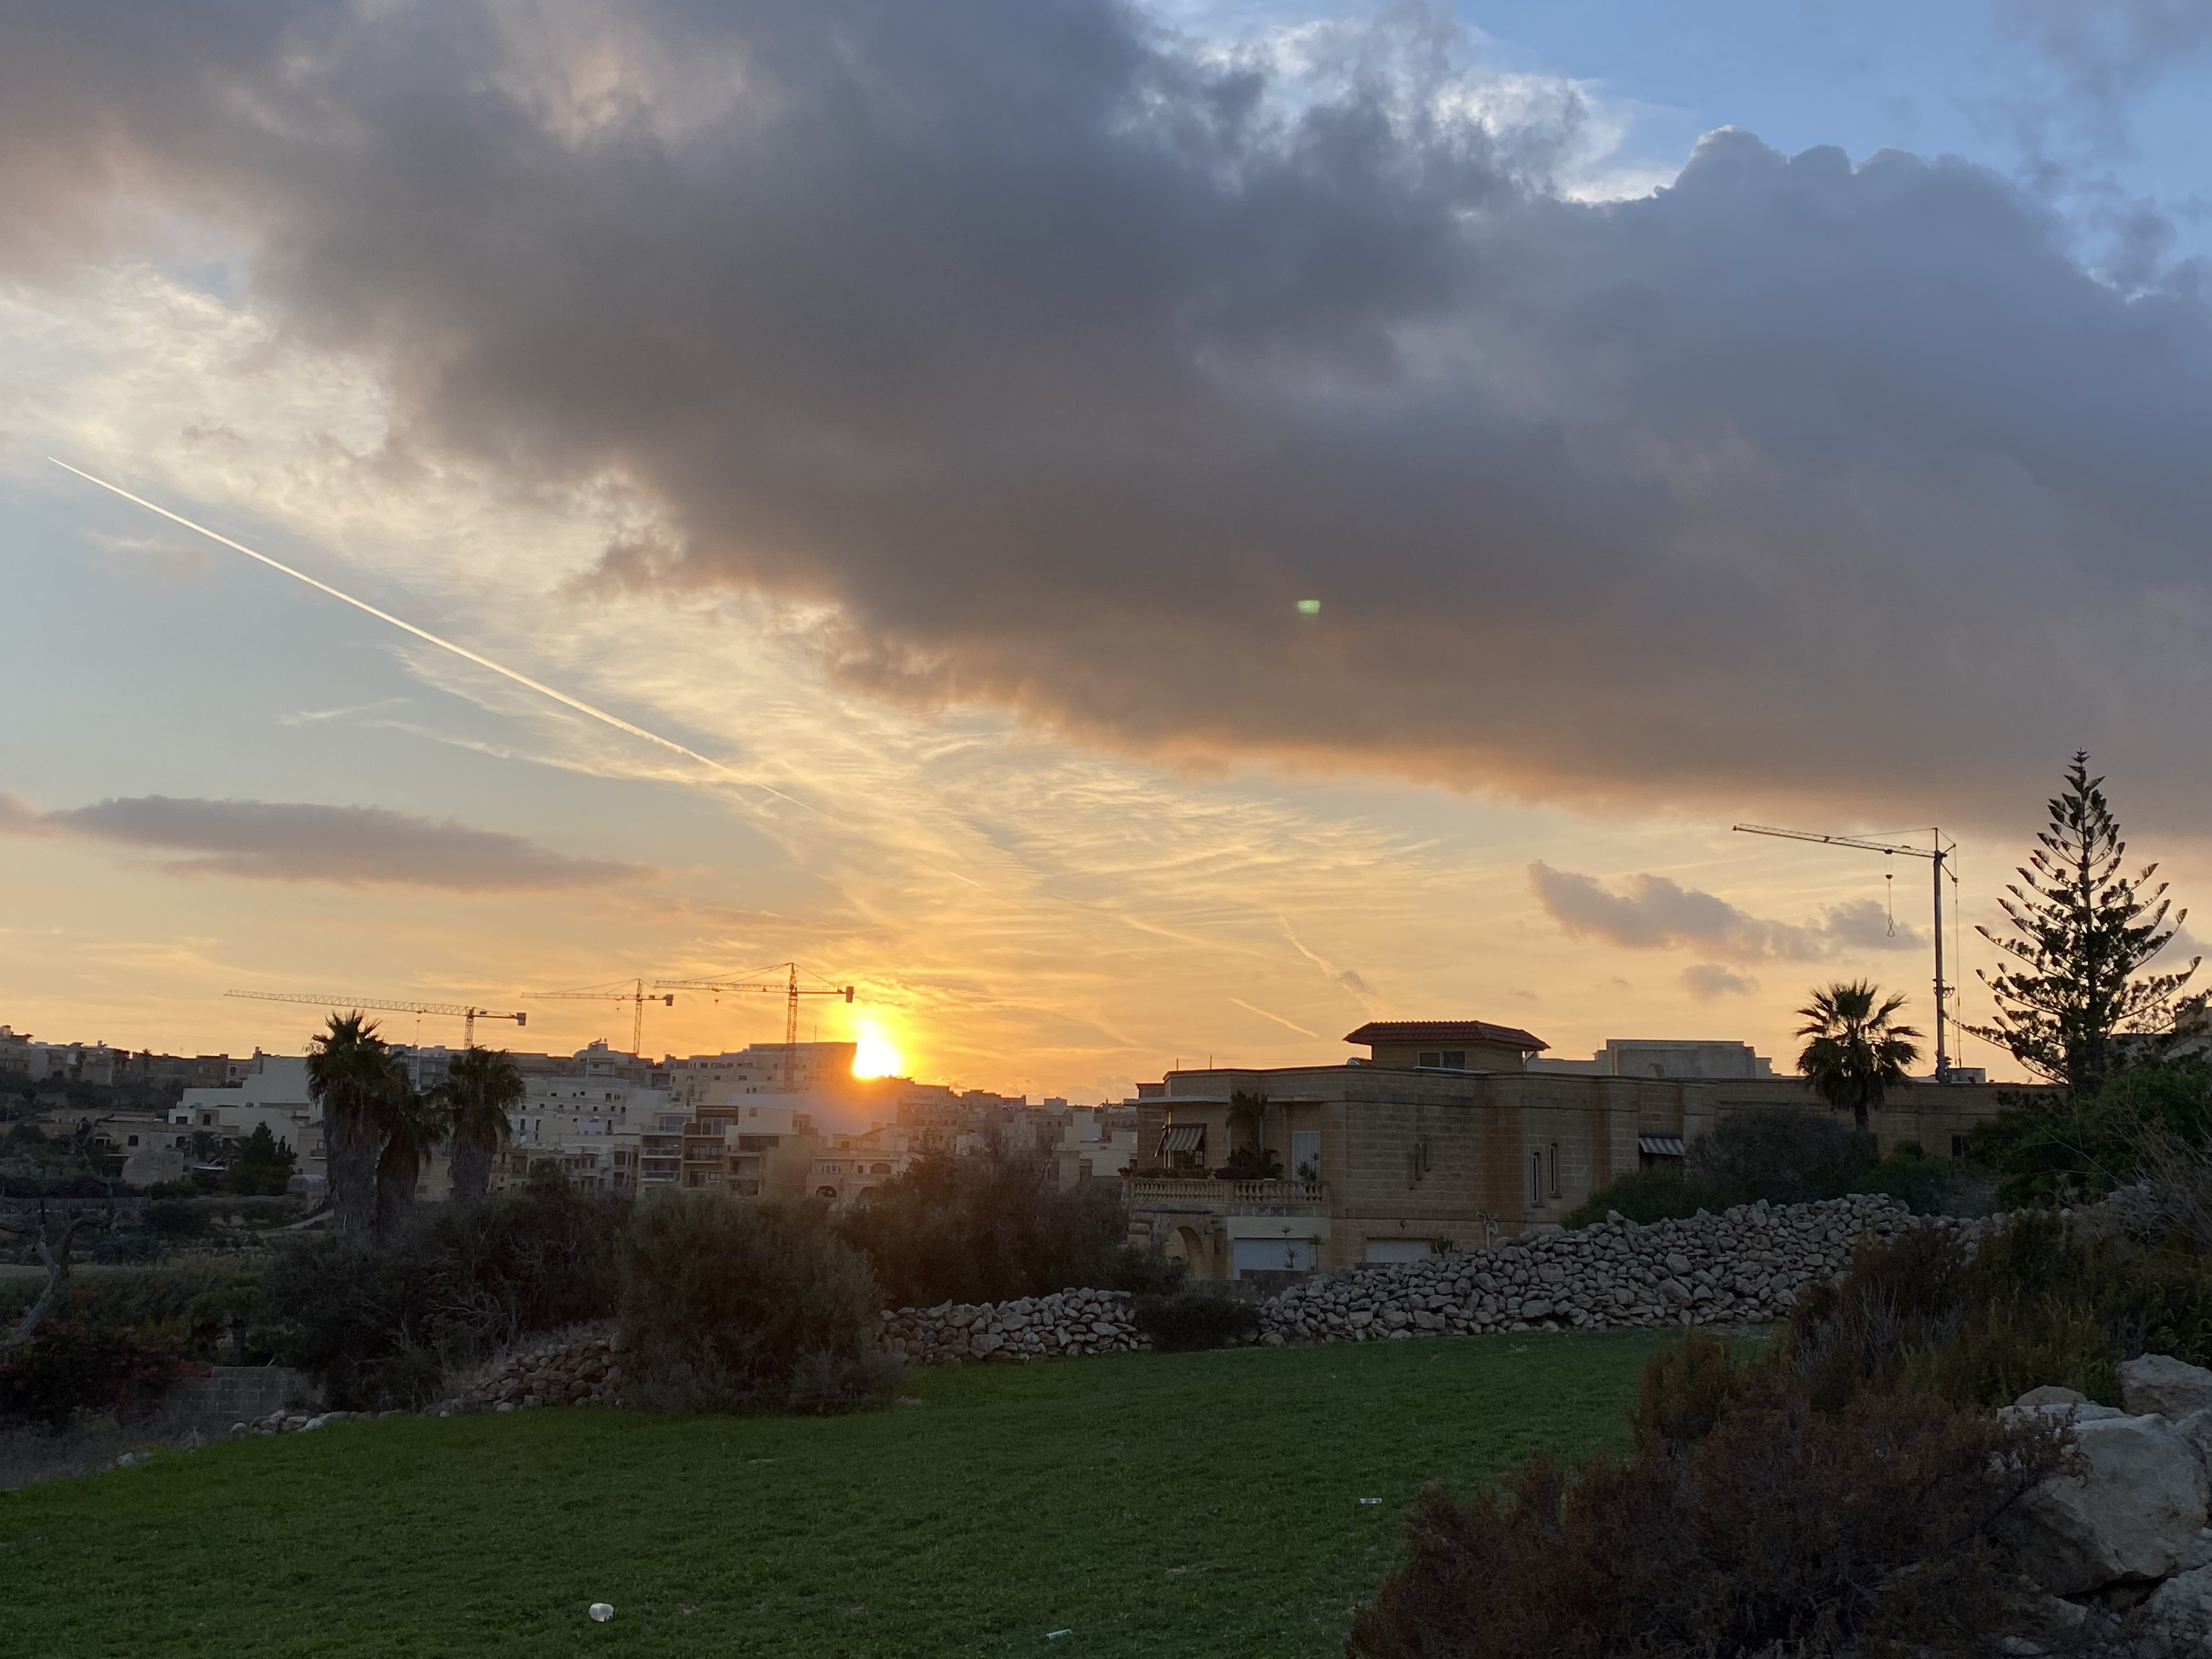crane: (1702, 798, 1973, 1044), (179, 971, 563, 1056), (601, 967, 881, 1021)
